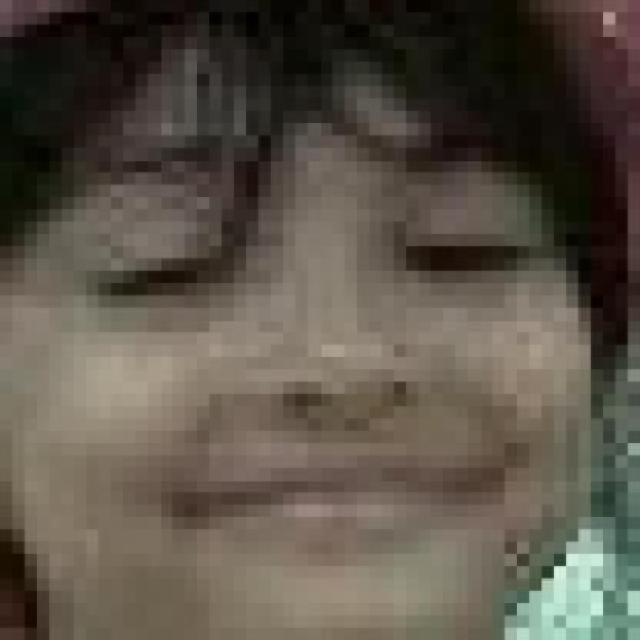drowsy: (404, 215, 528, 291), (103, 235, 217, 303)
